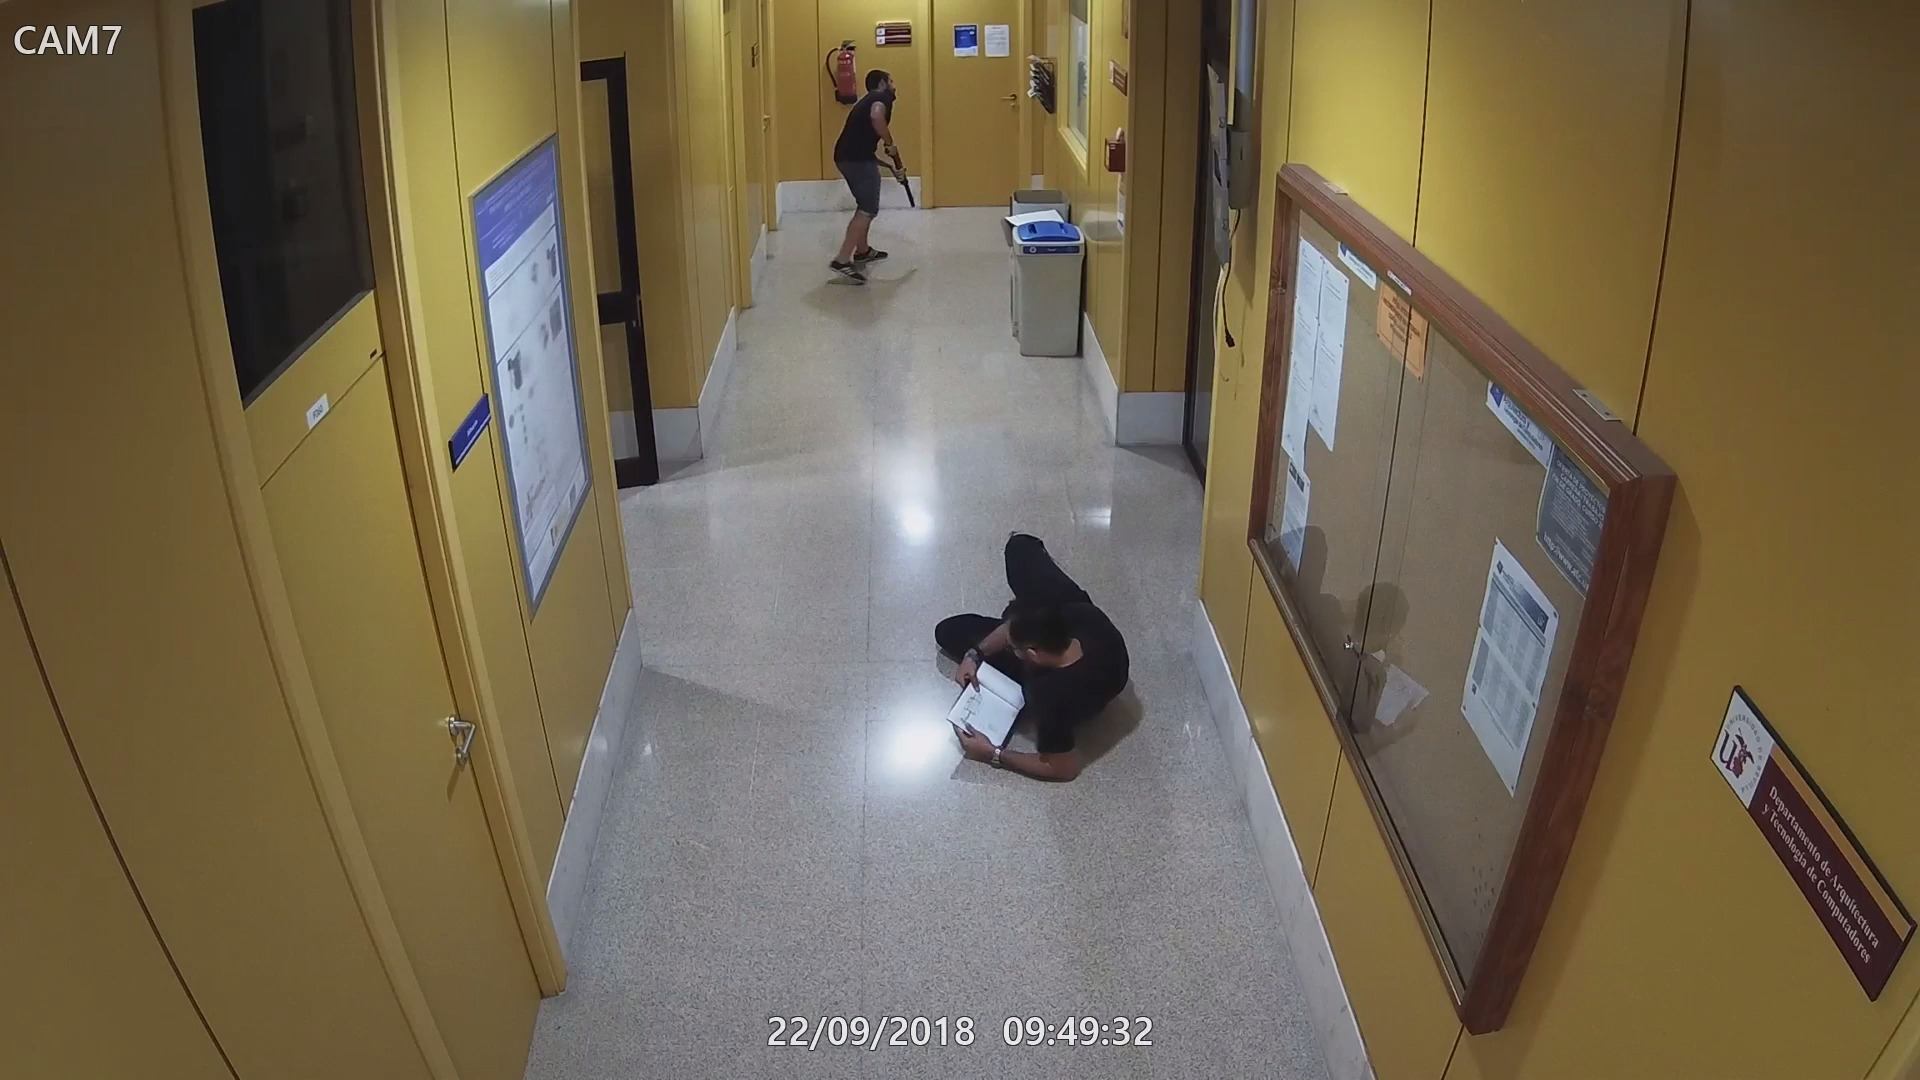Short_rifle: (880, 142, 915, 211)
